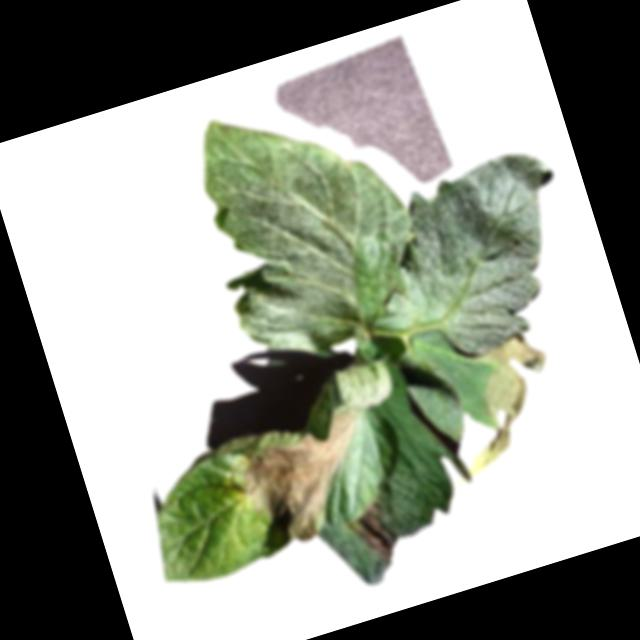Late_blight: (230, 400, 391, 555), (434, 329, 578, 481), (340, 497, 402, 570)
